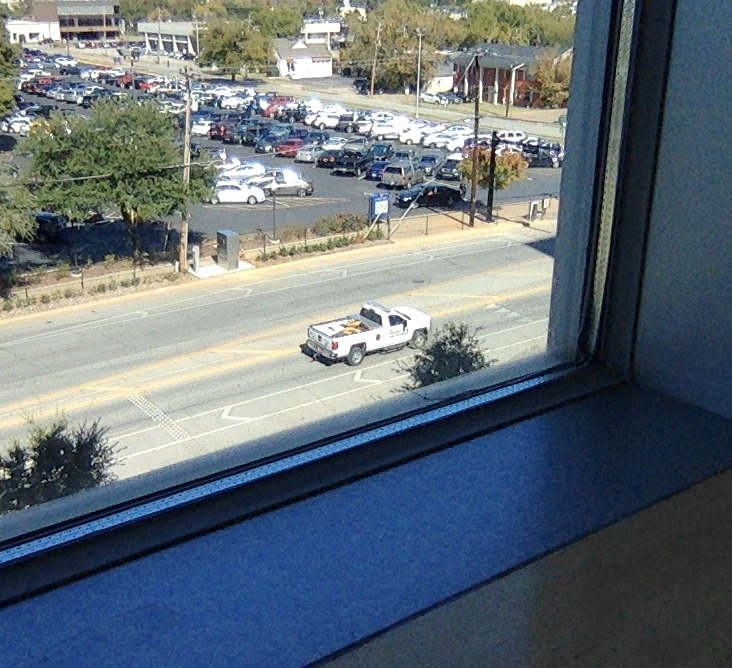car: (300, 300, 432, 368)
